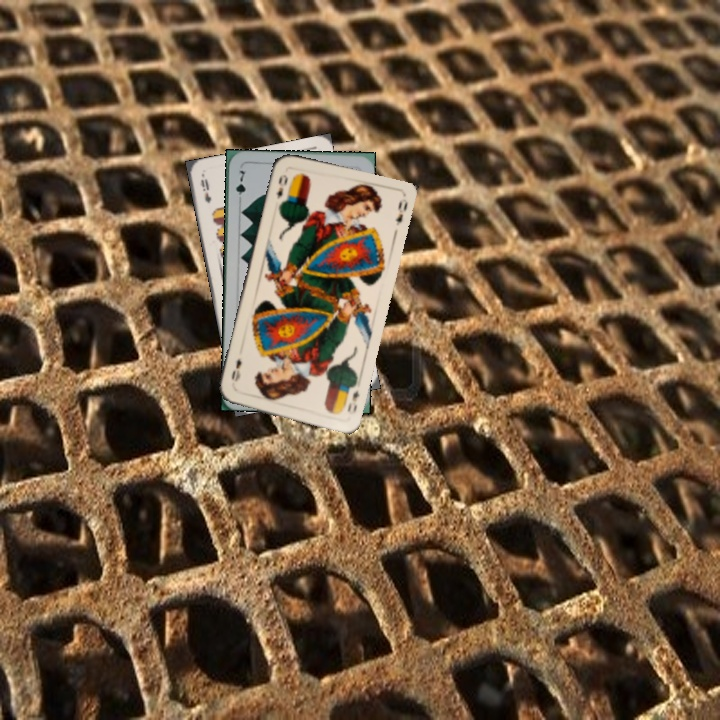E9: (197, 175, 214, 206)
EO: (272, 170, 290, 201), (343, 386, 362, 415)
G7: (231, 166, 248, 206)
